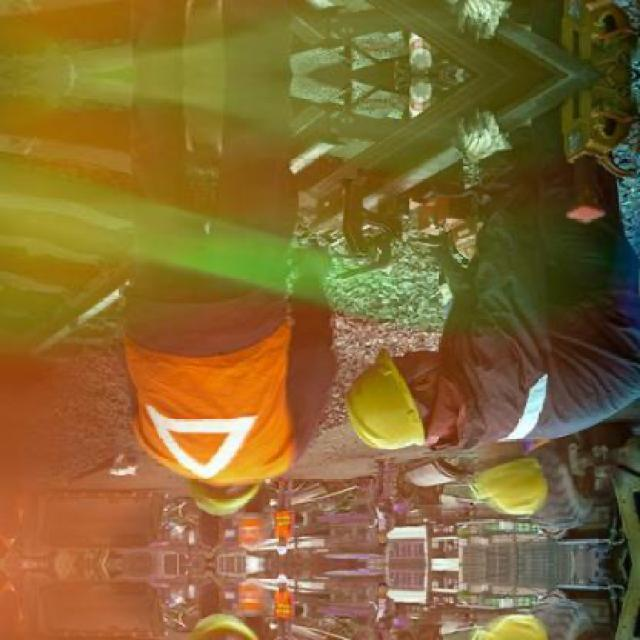con casco: (317, 334, 474, 459), (174, 448, 297, 563), (414, 426, 566, 518)
